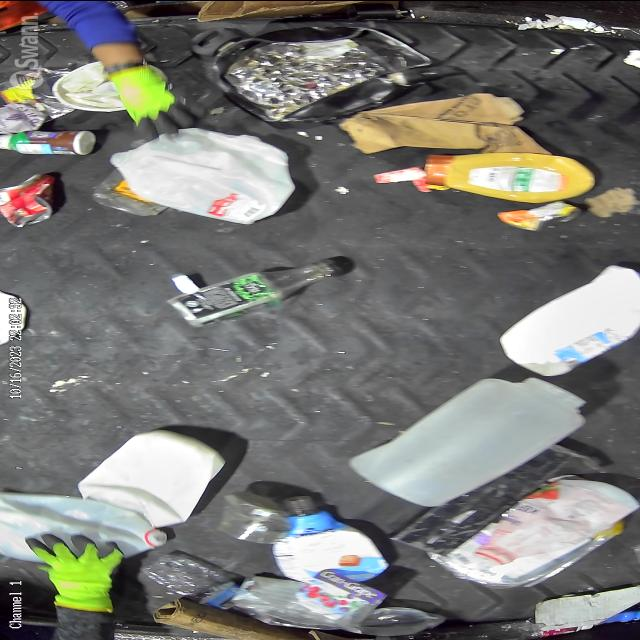can: (0, 65, 75, 122), (0, 172, 62, 228), (494, 198, 584, 232)
milk_jug: (344, 374, 590, 506), (108, 124, 298, 224), (496, 264, 640, 377), (77, 428, 232, 527), (0, 490, 167, 562)
plastic_bottle: (169, 255, 355, 328)
